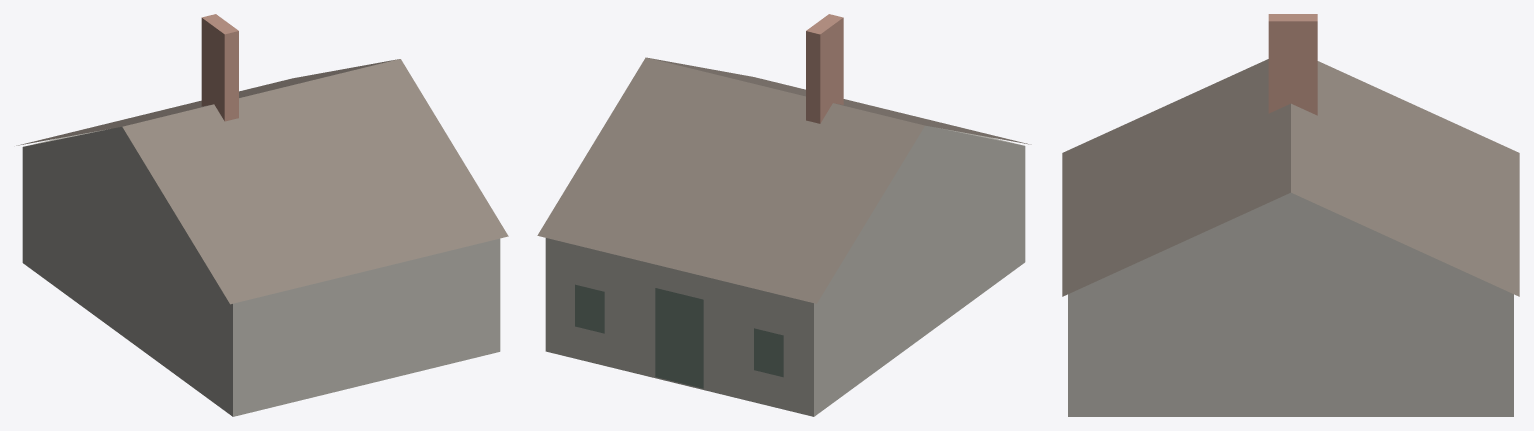
File: recon_1835_north_d5_037__recommended_1835.glb
3 views of the same model, side by side, from view 1: azimuth 30°, elevation 25°; view 2: azimuth 150°, elevation 25°; view 3: azimuth 270°, elevation 25° (orthographic). The views are drawn at different scales.
Visible parts, largest first — view 1: recon_1835_north_d5_037__recommended_1835; view 2: recon_1835_north_d5_037__recommended_1835; view 3: recon_1835_north_d5_037__recommended_1835.
Part boxes in pixels (<box>): recon_1835_north_d5_037__recommended_1835: <box>16,14,508,416</box>; recon_1835_north_d5_037__recommended_1835: <box>537,14,1031,416</box>; recon_1835_north_d5_037__recommended_1835: <box>1062,14,1519,416</box>.
Bounding box in the file's own units: 6.99 × 7 × 9.38.
